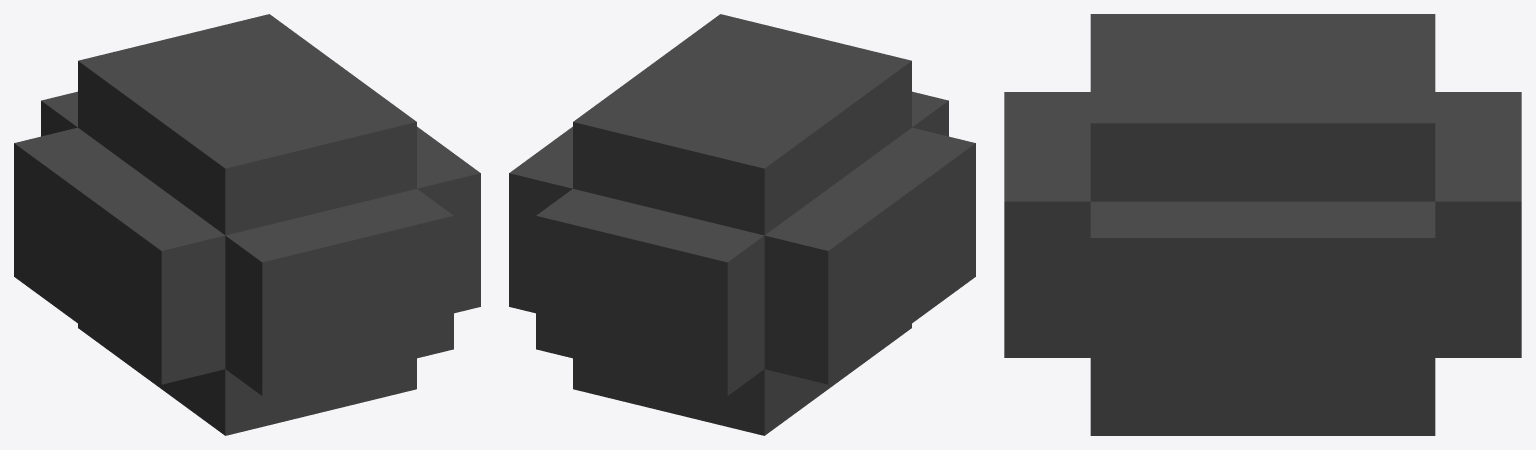
The model's file is Hand.obj.
The picture shows the model from 3 angles, left to right: view 1: azimuth 30°, elevation 25°; view 2: azimuth 150°, elevation 25°; view 3: azimuth 270°, elevation 25°; orthographic projection. The views are drawn at different scales.
Bounding box in the file's own units: 5 × 4 × 6.
